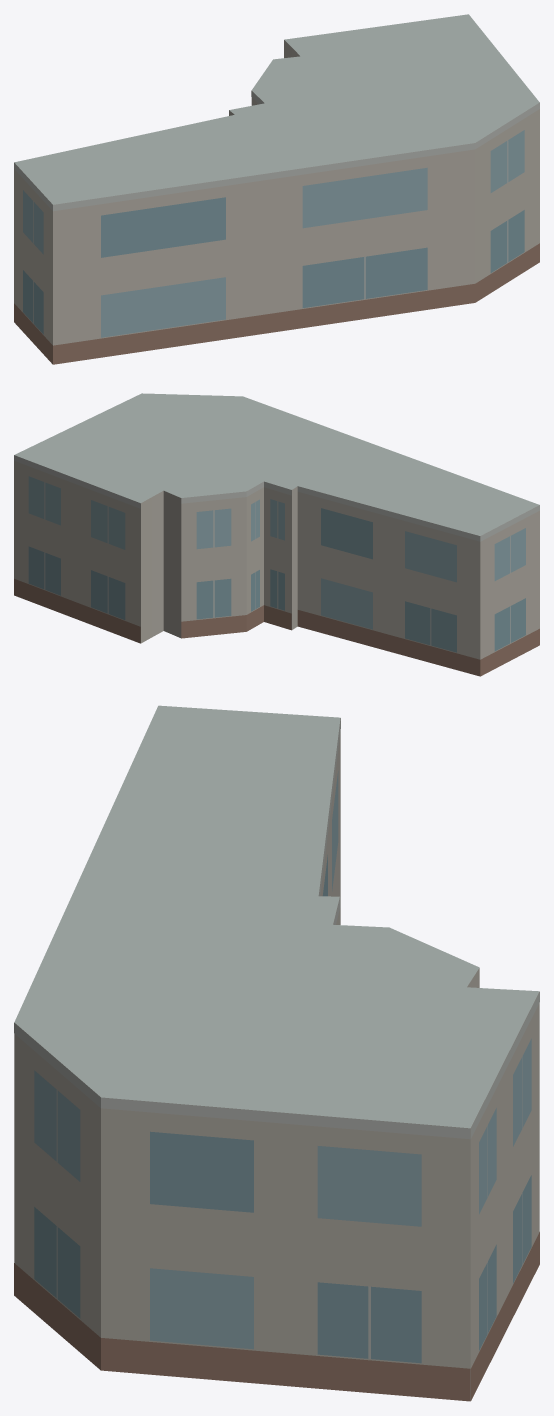
Rendered from survey-upis-32657372.glb.
3 renders of one model, top to bottom at view 1: azimuth 30°, elevation 25°; view 2: azimuth 150°, elevation 25°; view 3: azimuth 270°, elevation 25°, orthographic. The views are drawn at different scales.
Visible parts, largest first — view 1: survey-upis-32657372.tmp; view 2: survey-upis-32657372.tmp; view 3: survey-upis-32657372.tmp.
Boxes of the visible parts, x1,y1,x2,y2 form: survey-upis-32657372.tmp: (14, 14, 539, 364); survey-upis-32657372.tmp: (14, 393, 539, 676); survey-upis-32657372.tmp: (14, 705, 539, 1401).
Bounding box in the file's own units: 20.27 × 6.1 × 10.65.
